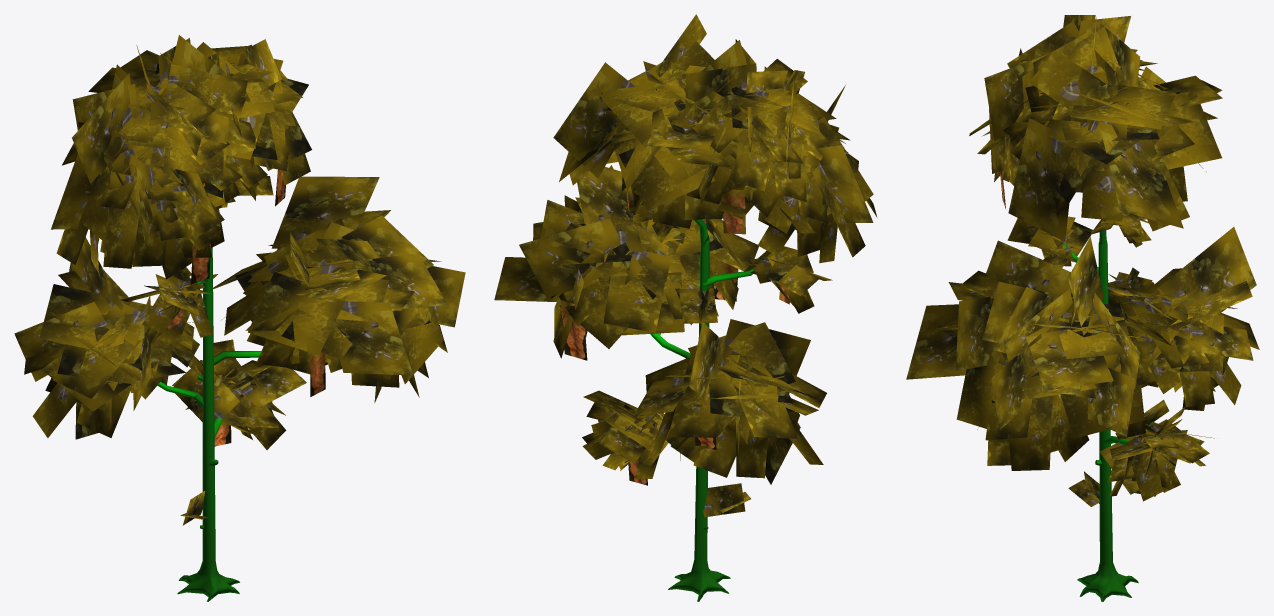
Rendered from hvs_trees_birch03_lod2.fbx.
3 renders of one model, left to right at view 1: azimuth 30°, elevation 25°; view 2: azimuth 150°, elevation 25°; view 3: azimuth 270°, elevation 25°, orthographic. The views are drawn at different scales.
Parts seen in each view (by area): view 1: hvs_trees_birch03_lod2; view 2: hvs_trees_birch03_lod2; view 3: hvs_trees_birch03_lod2.
Part boxes in pixels (left/top/right/bottom): hvs_trees_birch03_lod2: left=14, top=35, right=465, bottom=601; hvs_trees_birch03_lod2: left=494, top=14, right=877, bottom=601; hvs_trees_birch03_lod2: left=906, top=15, right=1259, bottom=601.
Size of the model in its own units: 48.19 by 70.59 by 40.4.
